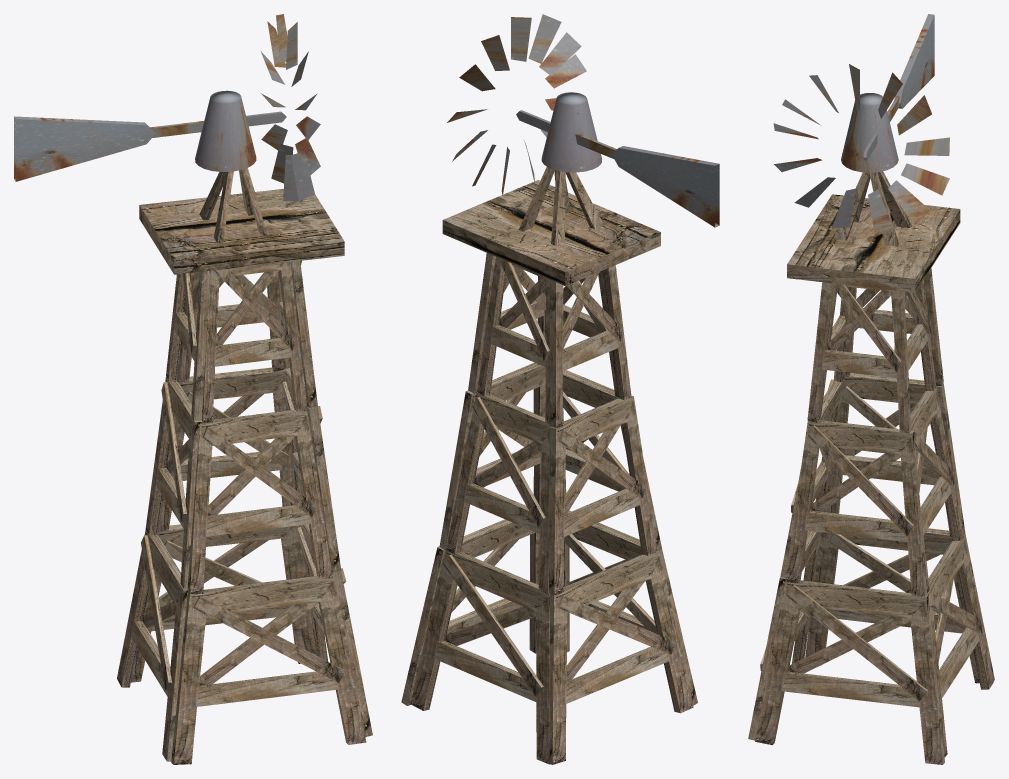
File: Windmill 1.fbx
The picture shows the model from 3 angles, left to right: view 1: azimuth 30°, elevation 25°; view 2: azimuth 150°, elevation 25°; view 3: azimuth 270°, elevation 25°; orthographic projection. The views are drawn at different scales.
Visible parts, largest first — view 1: WindmillMain__8_, WindmillFloor, WindmillMain__7_, WindmillFlapper, WindmillMain__10_, WindmillMain__6_, WindmillFan, WindmillMain__9_, WindmillMain__3_, WindmillMain__4_, WindmillCone, WindmillMain__11_ (+16 smaller); view 2: WindmillFloor, WindmillMain__10_, WindmillMain__4_, WindmillMain__9_, WindmillMain__3_, WindmillFlapper, WindmillFan, WindmillMain__11_, WindmillMain, WindmillMain__1_, WindmillMain__5_, WindmillCone (+19 smaller); view 3: WindmillMain, WindmillFloor, WindmillMain__1_, WindmillFan, WindmillMain__2_, WindmillMain__4_, WindmillMain__10_, WindmillMain__9_, WindmillMain__3_, WindmillCone, WindmillMain__8_, WoodDiagFront (+18 smaller).
Part boxes in pixels (x1,y1,x2,y2): WindmillMain__8_: (171,574,366,764); WindmillFloor: (139,189,344,274); WindmillMain__7_: (187,409,332,593); WindmillFlapper: (14,111,286,181); WindmillMain__10_: (117,529,187,761); WindmillMain__6_: (202,262,306,422); WindmillFan: (260,14,320,201); WindmillMain__9_: (145,376,202,589); WindmillMain__3_: (158,367,294,531); WindmillMain__4_: (131,524,315,682); WindmillCone: (195,90,256,171); WindmillMain__11_: (166,271,210,420); WindmillFloor: (442,180,660,285); WindmillMain__10_: (549,551,693,764); WindmillMain__4_: (410,550,549,764); WindmillMain__9_: (548,395,657,595); WindmillMain__3_: (446,392,550,593); WindmillFlapper: (516,110,719,227); WindmillFan: (447,14,586,195); WindmillMain__11_: (549,265,631,427); WindmillMain: (401,519,539,705); WindmillMain__1_: (439,362,545,551); WindmillMain__5_: (477,257,549,423); WindmillCone: (541,92,601,172); WindmillMain: (755,580,944,764); WindmillFloor: (787,194,960,292); WindmillMain__1_: (785,420,926,596); WindmillFan: (773,64,949,236); WindmillMain__2_: (807,282,911,433); WindmillMain__4_: (927,534,993,757); WindmillMain__10_: (805,528,994,683); WindmillMain__9_: (824,373,965,536); WindmillMain__3_: (910,387,964,592); WindmillCone: (841,93,898,172); WindmillMain__8_: (748,530,821,740); WoodDiagFront: (786,584,927,700).
Size of the model in its own units: 835 by 1731 by 581.
